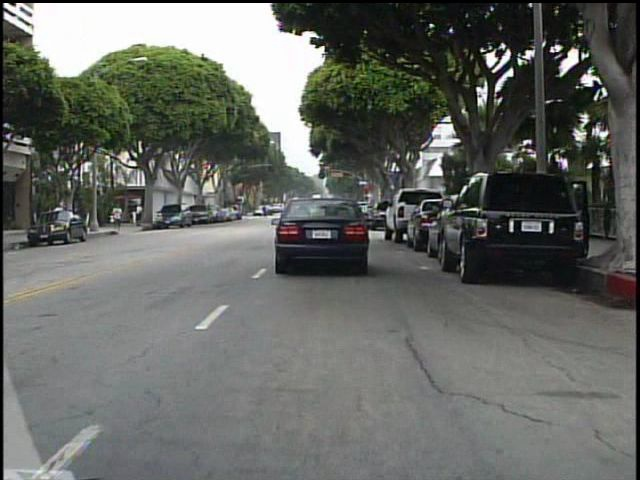person: (111, 201, 127, 235), (134, 200, 147, 228), (260, 201, 272, 222)
